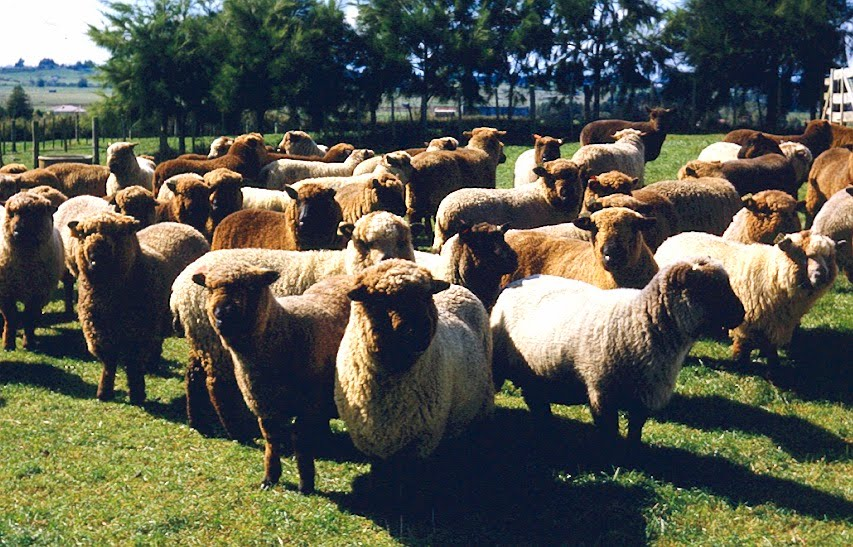sheep: (171, 220, 426, 422), (503, 257, 747, 464), (209, 252, 353, 468), (349, 276, 503, 466), (659, 209, 837, 354), (716, 170, 846, 355), (68, 213, 209, 371), (514, 197, 675, 293), (689, 108, 831, 193), (595, 161, 734, 245), (230, 141, 383, 211), (6, 178, 69, 347), (81, 174, 209, 254), (445, 163, 589, 229), (495, 128, 594, 215), (370, 142, 487, 215), (139, 145, 243, 221), (595, 117, 688, 180)
